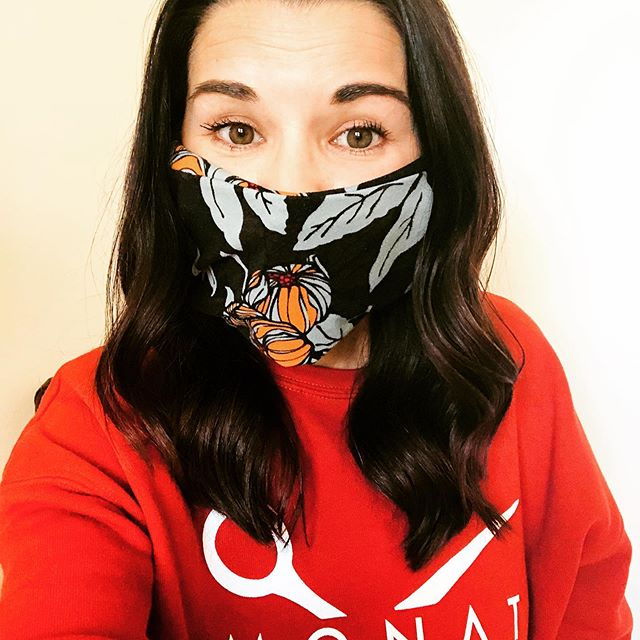homemade: (172, 152, 432, 369)
